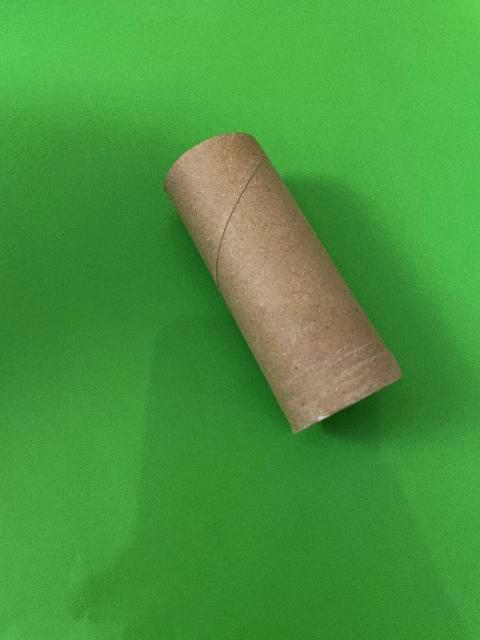tissueroll: (162, 130, 404, 436)
